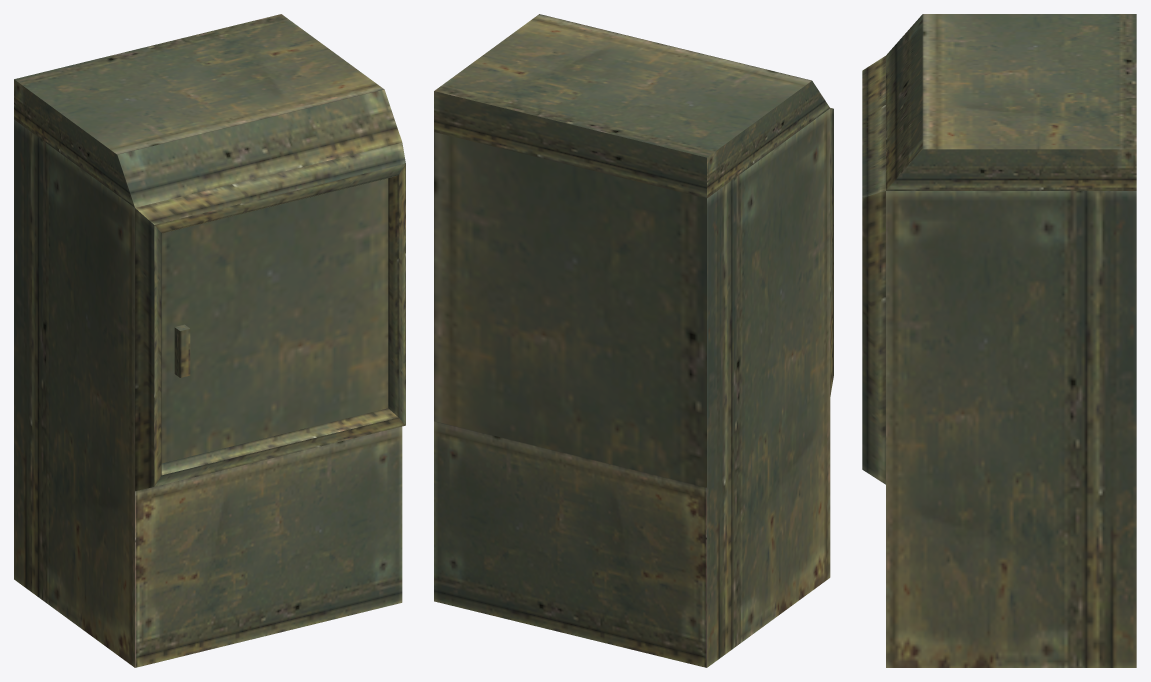
File: Model_NewsPaper_Box_04.fbx
3 renders of one model, left to right at view 1: azimuth 30°, elevation 25°; view 2: azimuth 150°, elevation 25°; view 3: azimuth 270°, elevation 25°, orthographic. The views are drawn at different scales.
Parts seen in each view (by area): view 1: Box_04; view 2: Box_04; view 3: Box_04.
Boxes of the visible parts, x1,y1,x2,y2 form: Box_04: (14, 14, 405, 667); Box_04: (434, 14, 833, 667); Box_04: (862, 14, 1136, 667).
Bounding box in the file's own units: 128 × 228 × 109.
